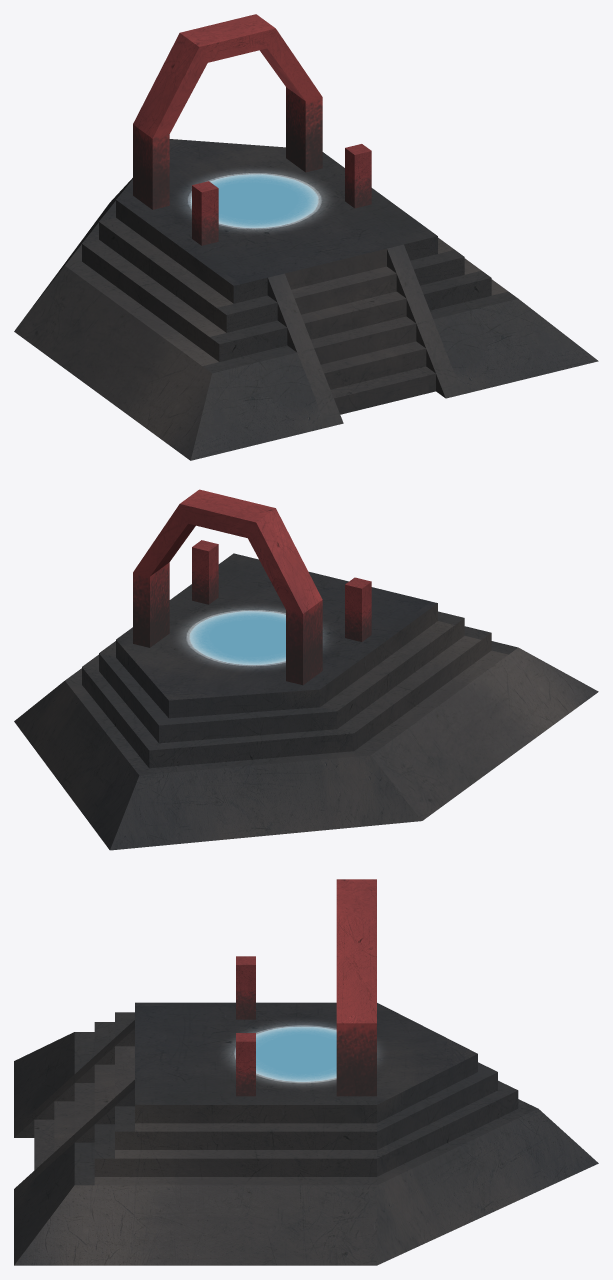
File: AltarRedo.fbx
The picture shows the model from 3 angles, top to bottom: view 1: azimuth 30°, elevation 25°; view 2: azimuth 150°, elevation 25°; view 3: azimuth 270°, elevation 25°; orthographic projection. The views are drawn at different scales.
Parts seen in each view (by area): view 1: Altar01, Arch01, Pillar01, Pilar02; view 2: Altar01, Arch01, Pilar02, Pillar01; view 3: Altar01, Arch01, Pillar01, Pilar02.
Part boxes in pixels (x1=…): Altar01: x1=14, y1=139, x2=598, y2=460; Arch01: x1=133, y1=14, x2=322, y2=209; Pillar01: x1=192, y1=181, x2=218, y2=245; Pilar02: x1=345, y1=144, x2=371, y2=208; Altar01: x1=14, y1=553, x2=598, y2=850; Arch01: x1=133, y1=489, x2=322, y2=685; Pilar02: x1=192, y1=540, x2=218, y2=604; Pillar01: x1=345, y1=577, x2=371, y2=641; Altar01: x1=14, y1=1002, x2=598, y2=1265; Arch01: x1=336, y1=879, x2=376, y2=1096; Pillar01: x1=236, y1=956, x2=255, y2=1019; Pilar02: x1=236, y1=1033, x2=255, y2=1096.
Bounding box in the file's own units: 24 × 14.5 × 29.
